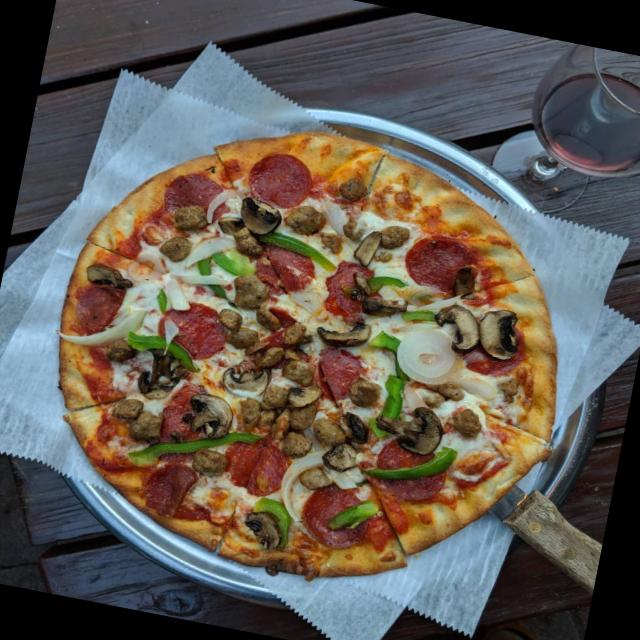mushrooms: (299, 438, 365, 494), (180, 386, 239, 446), (474, 303, 528, 368), (132, 344, 188, 402), (432, 300, 486, 356), (312, 407, 375, 452), (393, 400, 444, 454), (314, 316, 382, 352), (231, 195, 285, 237), (218, 361, 270, 403), (212, 304, 262, 347), (80, 258, 136, 292), (243, 504, 286, 544), (350, 229, 384, 267), (157, 231, 193, 263), (350, 376, 380, 408)
pepperoni: (370, 436, 452, 510), (299, 478, 378, 548), (402, 226, 477, 296), (158, 294, 232, 360), (240, 145, 315, 209), (222, 434, 293, 499), (163, 173, 230, 226), (142, 456, 200, 516), (320, 256, 374, 312), (156, 378, 202, 442), (252, 244, 314, 290), (70, 278, 119, 334), (312, 344, 358, 398)
peppers: (120, 406, 270, 488), (364, 436, 456, 490), (256, 226, 336, 273), (124, 326, 204, 372), (194, 247, 248, 305), (252, 498, 302, 548), (376, 366, 410, 426), (334, 496, 373, 538), (368, 328, 407, 364), (402, 300, 444, 332)
pizza: (55, 131, 559, 584)
